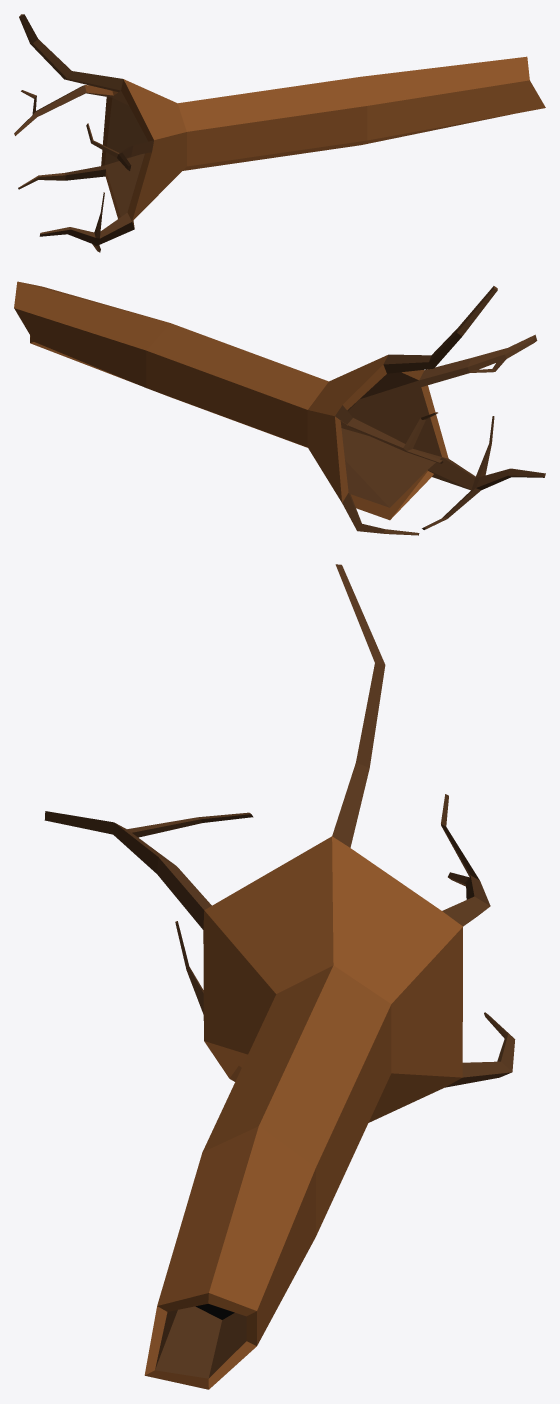
Rendered from DeadTree.fbx.
3 renders of one model, top to bottom at view 1: azimuth 30°, elevation 25°; view 2: azimuth 150°, elevation 25°; view 3: azimuth 270°, elevation 25°, orthographic. The views are drawn at different scales.
Visible parts, largest first — view 1: Cube.001; view 2: Cube.001; view 3: Cube.001.
Boxes of the visible parts, x1,y1,x2,y2 form: Cube.001: (14, 14, 545, 252); Cube.001: (14, 281, 545, 535); Cube.001: (44, 564, 515, 1389).
Bounding box in the file's own units: 873 × 418 × 363.
